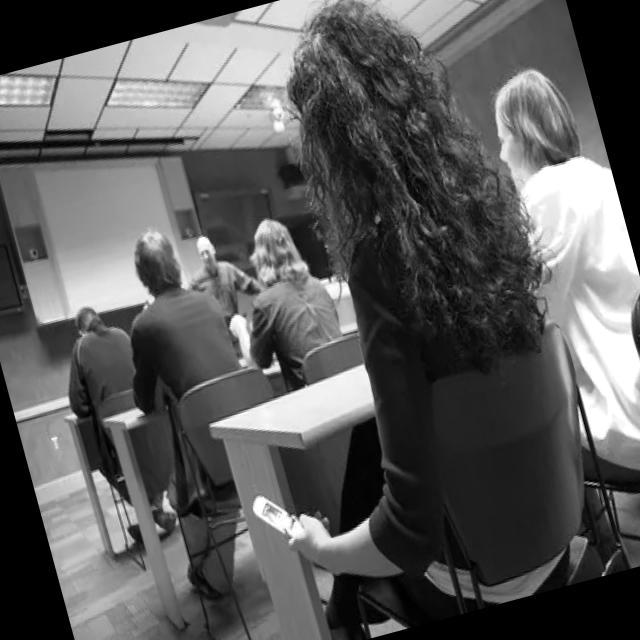phone: (248, 484, 304, 548)
